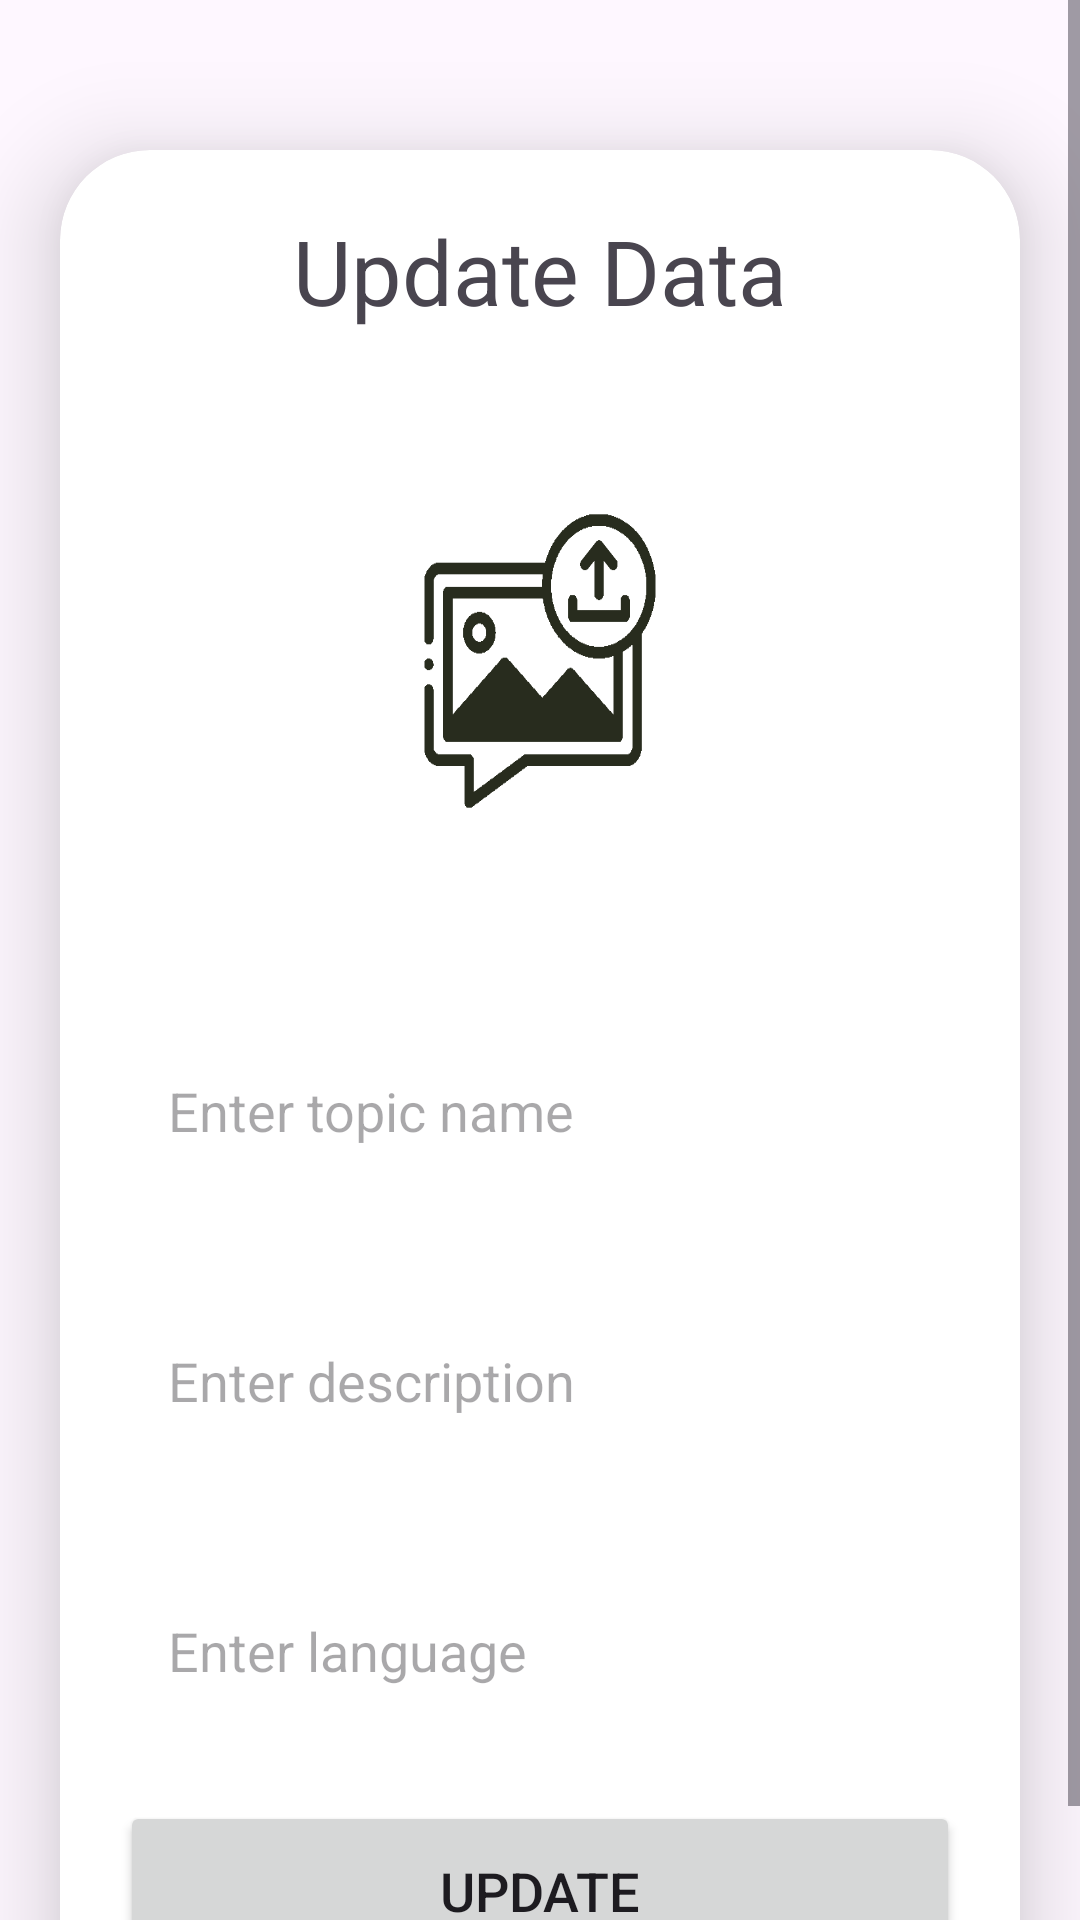

Where to tap for icons on this 1080w x 1920h app screen, as (x,y):
uploadimgg: (540,661)
